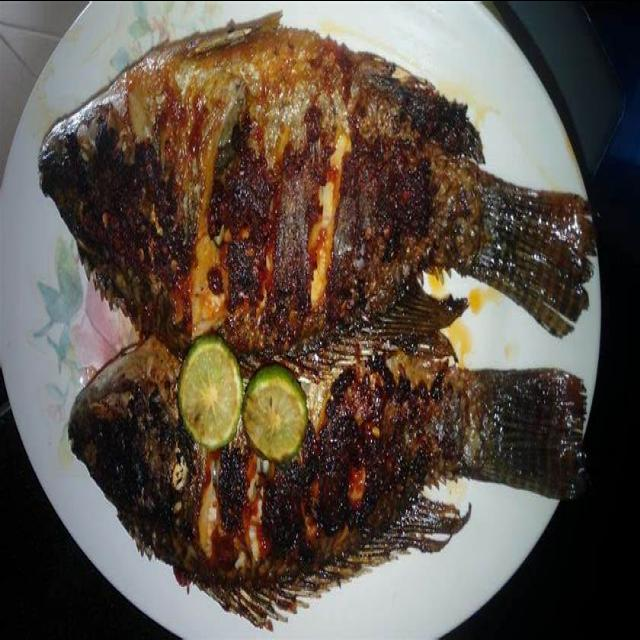ikan bakar: (38, 20, 597, 356), (68, 329, 586, 616)
